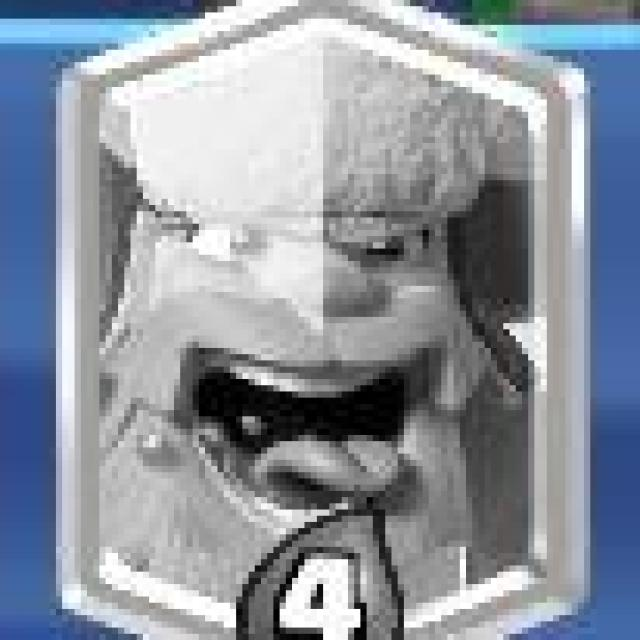Lumberjack: (66, 0, 582, 632)
